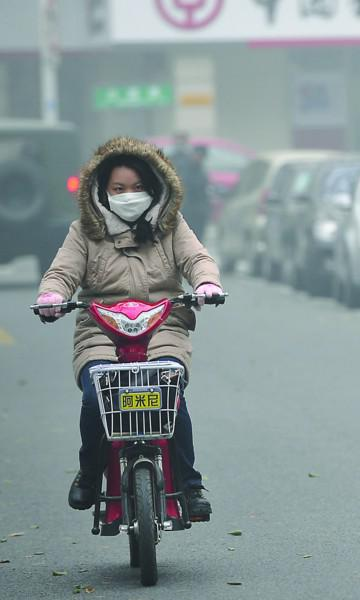OK: (107, 176, 155, 222)
